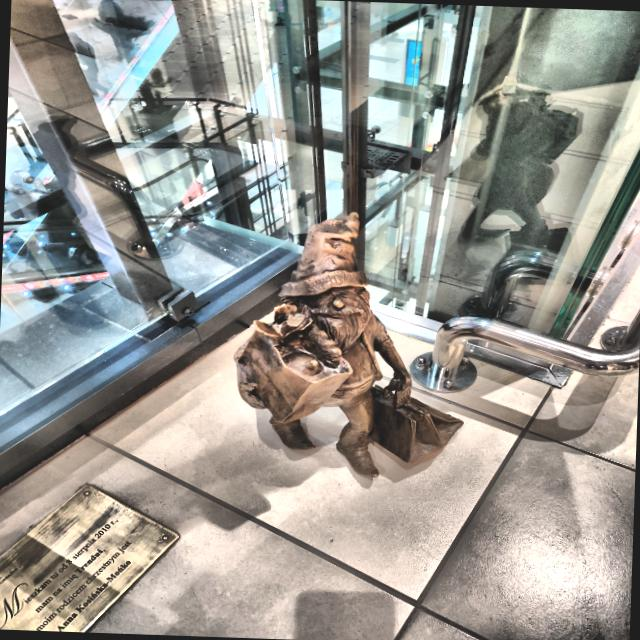Trendus: (233, 212, 462, 478)
